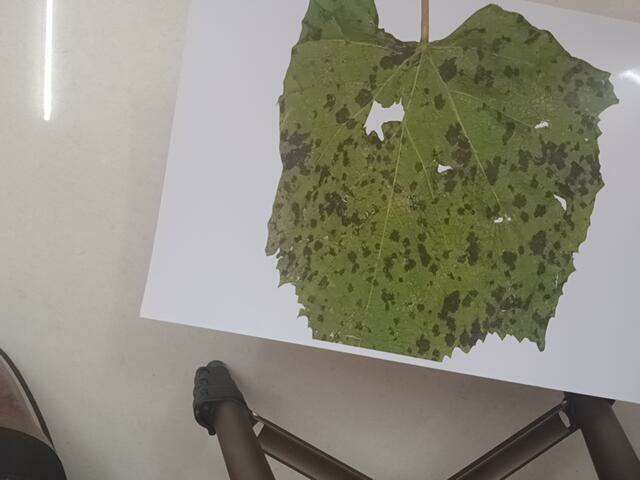Grape_Blight_Leaf: (267, 4, 620, 360)
